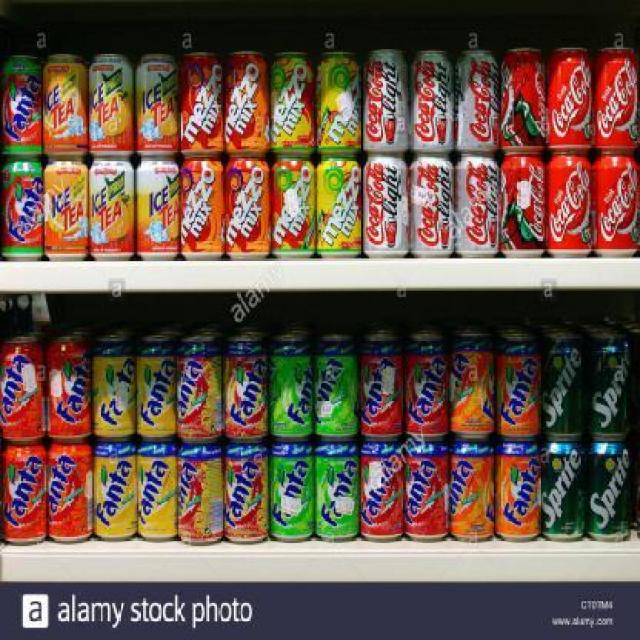Drinks: (0, 335, 48, 443), (362, 152, 410, 258), (592, 150, 639, 258), (498, 150, 544, 259), (222, 333, 268, 441), (47, 440, 95, 543), (0, 443, 48, 546), (176, 335, 222, 442), (546, 152, 592, 259), (313, 333, 359, 439), (268, 333, 314, 439), (47, 334, 93, 440), (454, 152, 500, 258), (408, 152, 454, 258), (586, 331, 632, 437), (545, 47, 593, 148), (408, 50, 455, 153), (362, 49, 409, 152), (449, 328, 493, 438), (178, 442, 224, 547), (592, 48, 640, 148), (500, 48, 548, 148), (224, 442, 270, 546), (495, 328, 540, 434), (540, 330, 585, 436), (454, 51, 501, 151), (494, 438, 540, 540), (404, 330, 448, 436), (359, 332, 403, 438), (540, 437, 585, 540), (585, 438, 630, 540), (450, 440, 495, 542), (93, 334, 136, 440), (1, 55, 44, 160), (359, 442, 404, 542), (315, 442, 360, 542), (270, 443, 315, 543), (135, 334, 177, 440), (404, 440, 448, 540), (0, 159, 43, 261), (94, 440, 137, 542), (137, 442, 177, 543)
